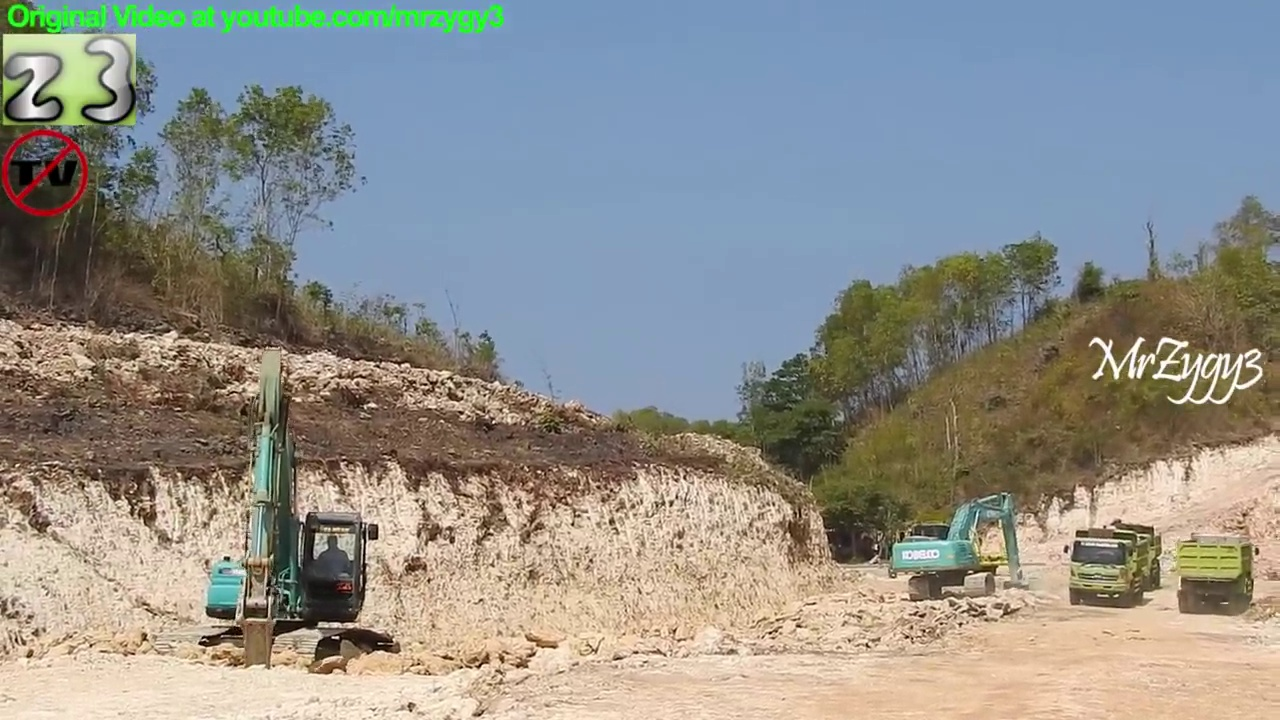excavator: (889, 490, 1034, 610)
excavator breaker: (154, 341, 403, 679)
truck: (1172, 531, 1264, 616), (1062, 526, 1153, 609), (1079, 520, 1165, 600)
